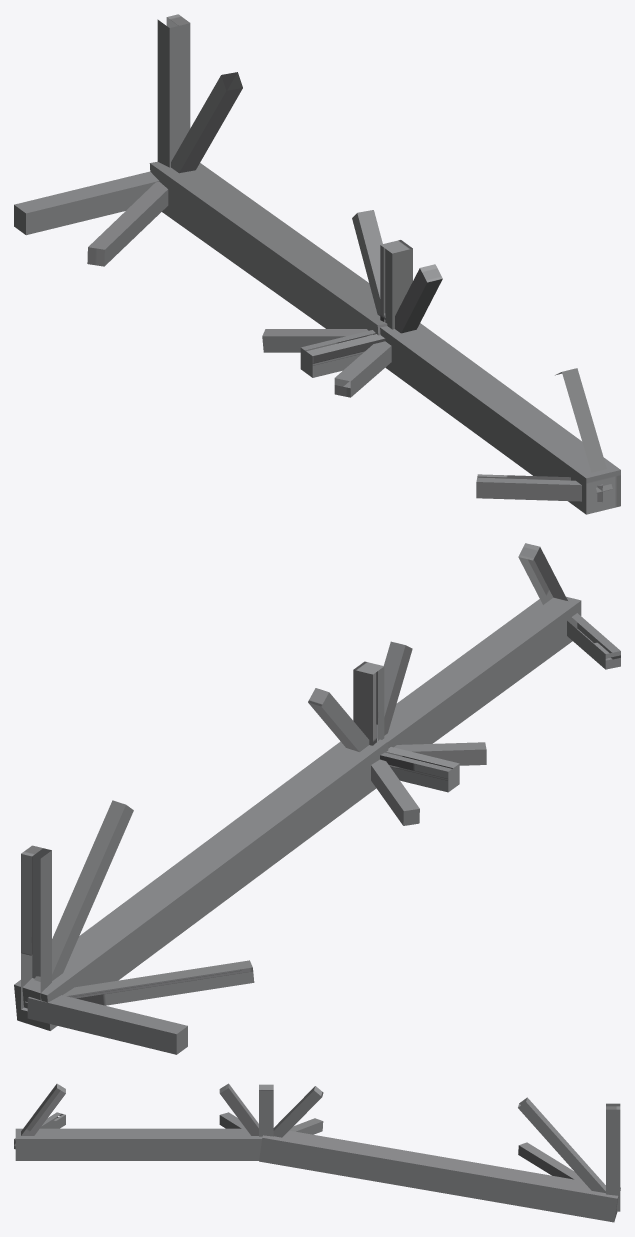
3 views of the same model, one above another, from view 1: azimuth 30°, elevation 25°; view 2: azimuth 150°, elevation 25°; view 3: azimuth 270°, elevation 25° (orthographic). The views are drawn at different scales.
Bounding box in the file's own units: 0.5136 × 0.5114 × 2.5.
